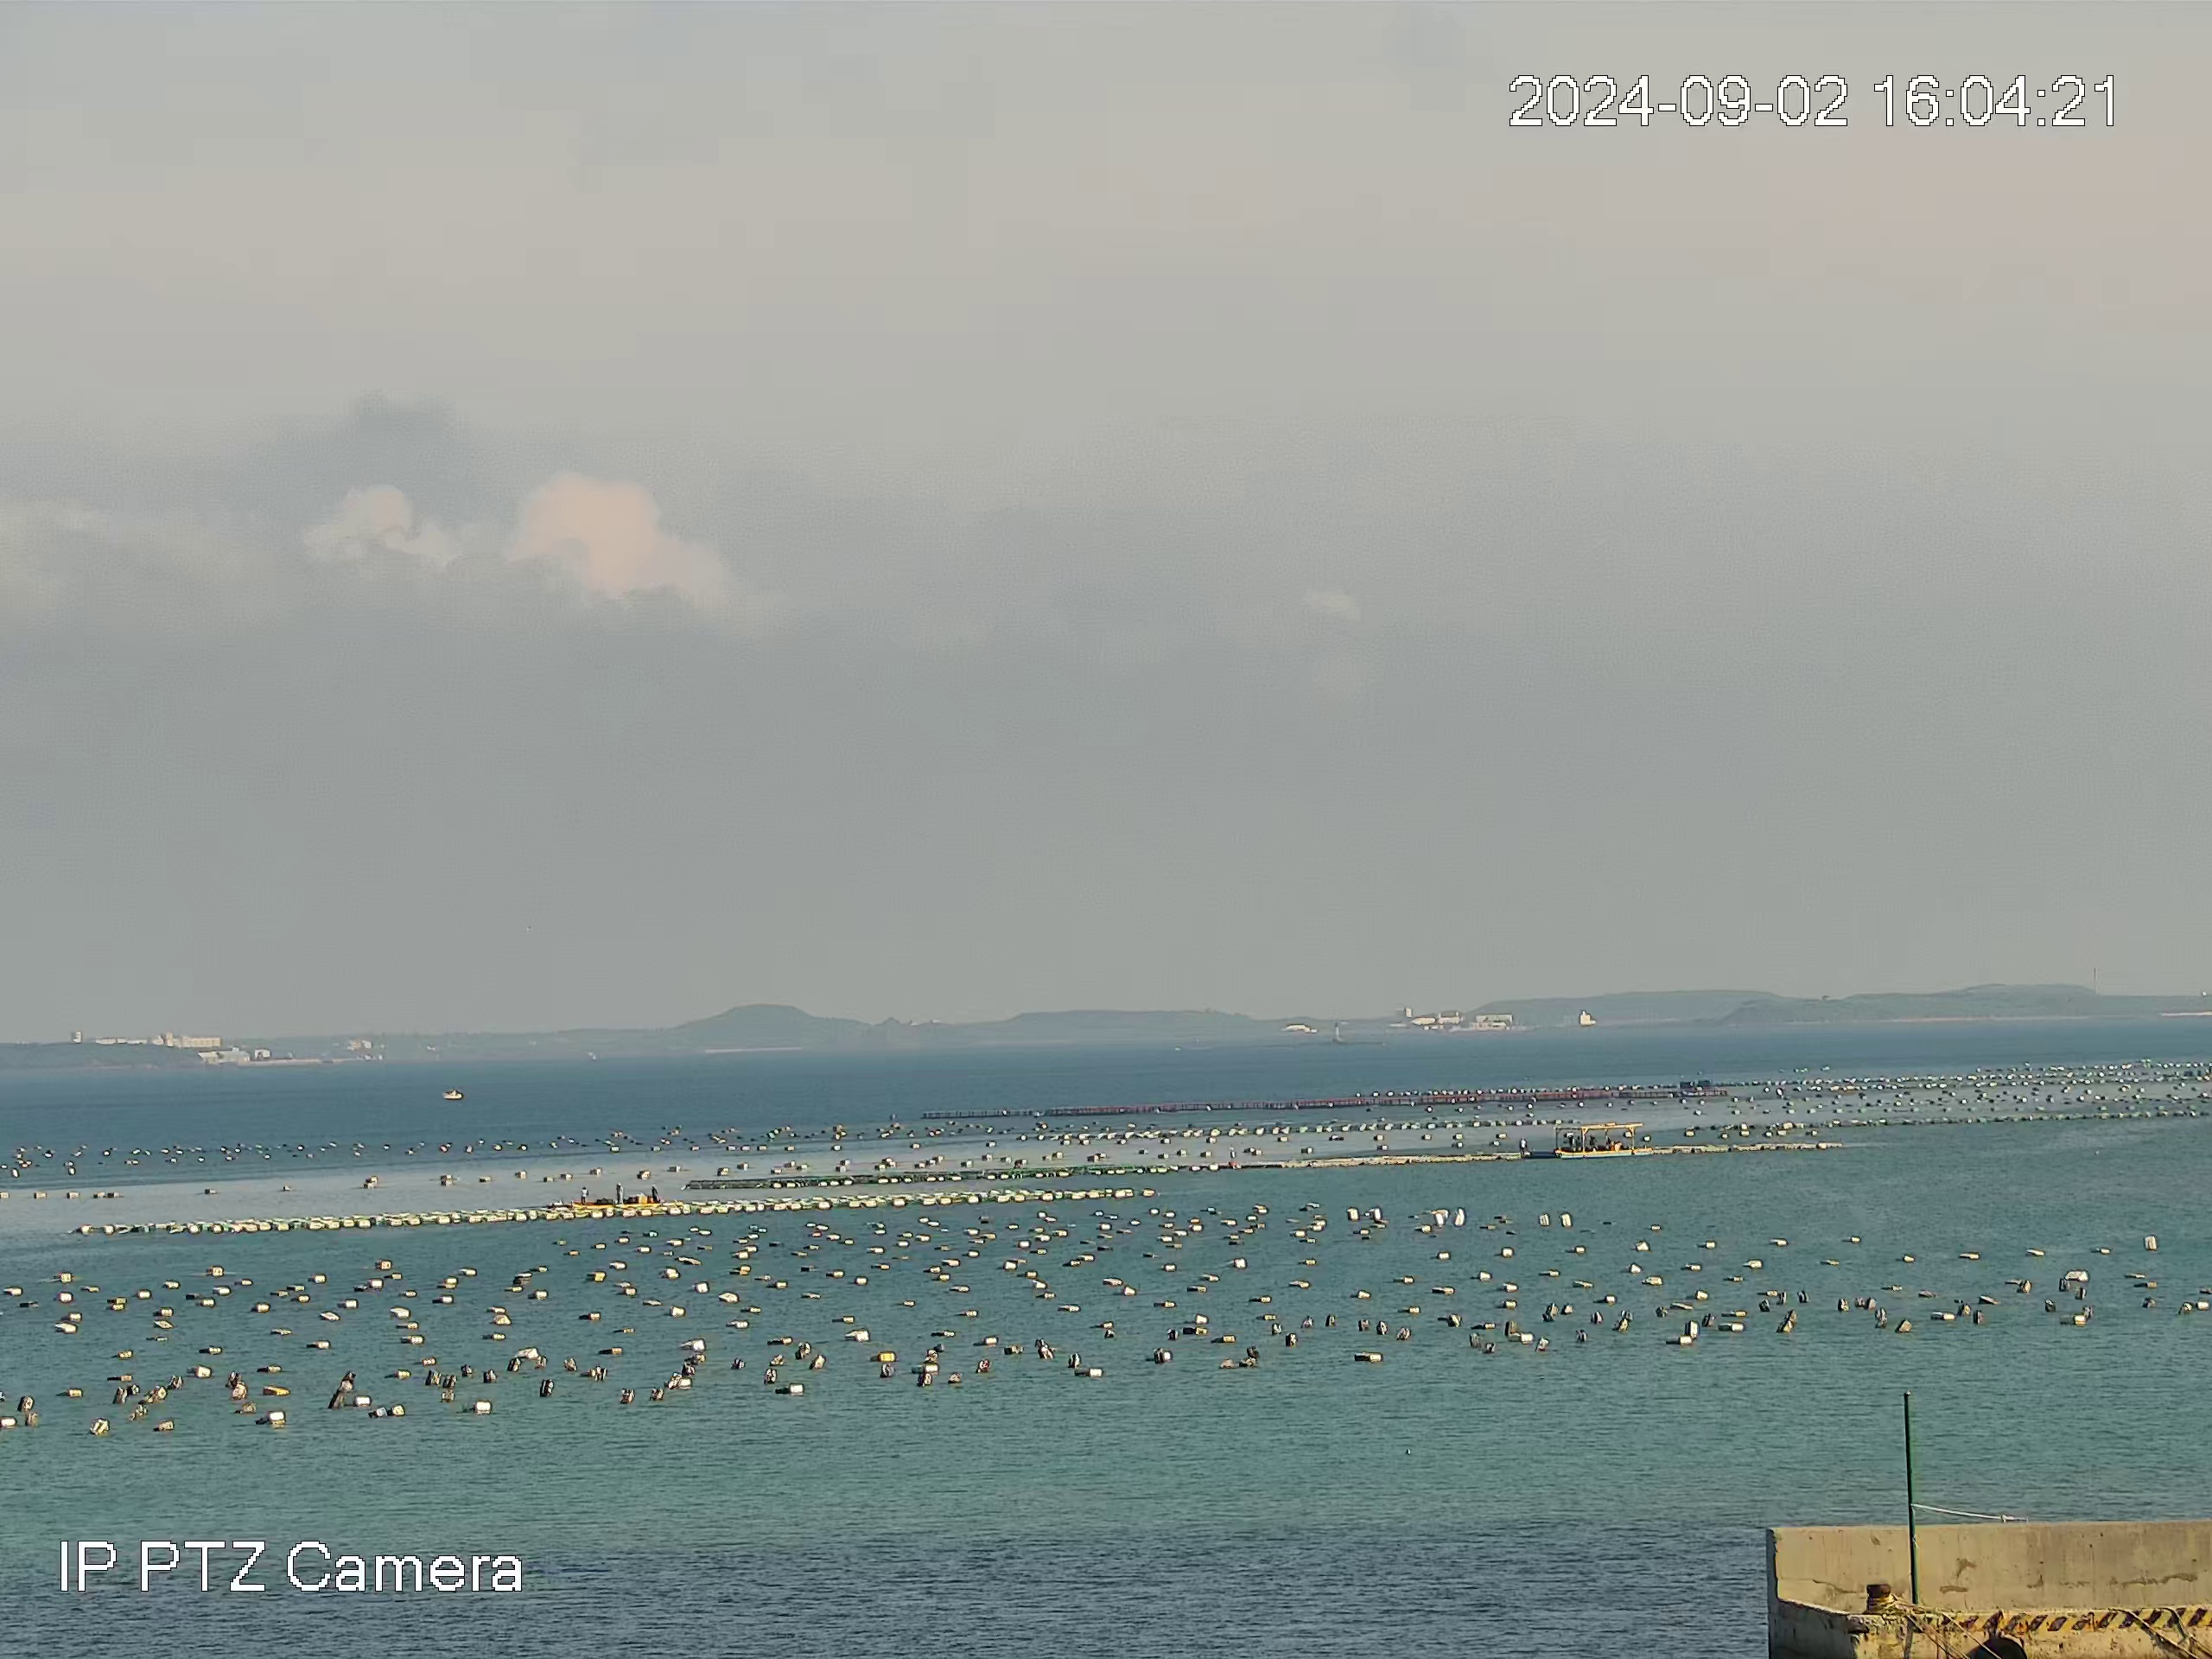boat: (1552, 1121, 1655, 1160), (570, 1182, 662, 1210), (441, 1087, 464, 1101)
